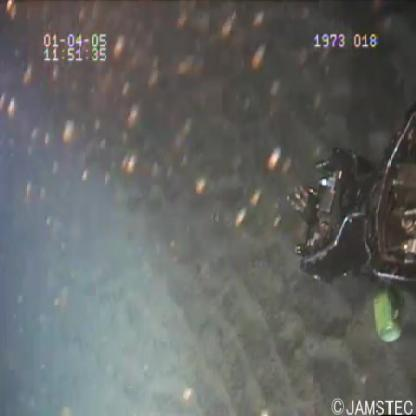Rov: (282, 90, 416, 290)
Rác: (368, 284, 408, 348)
